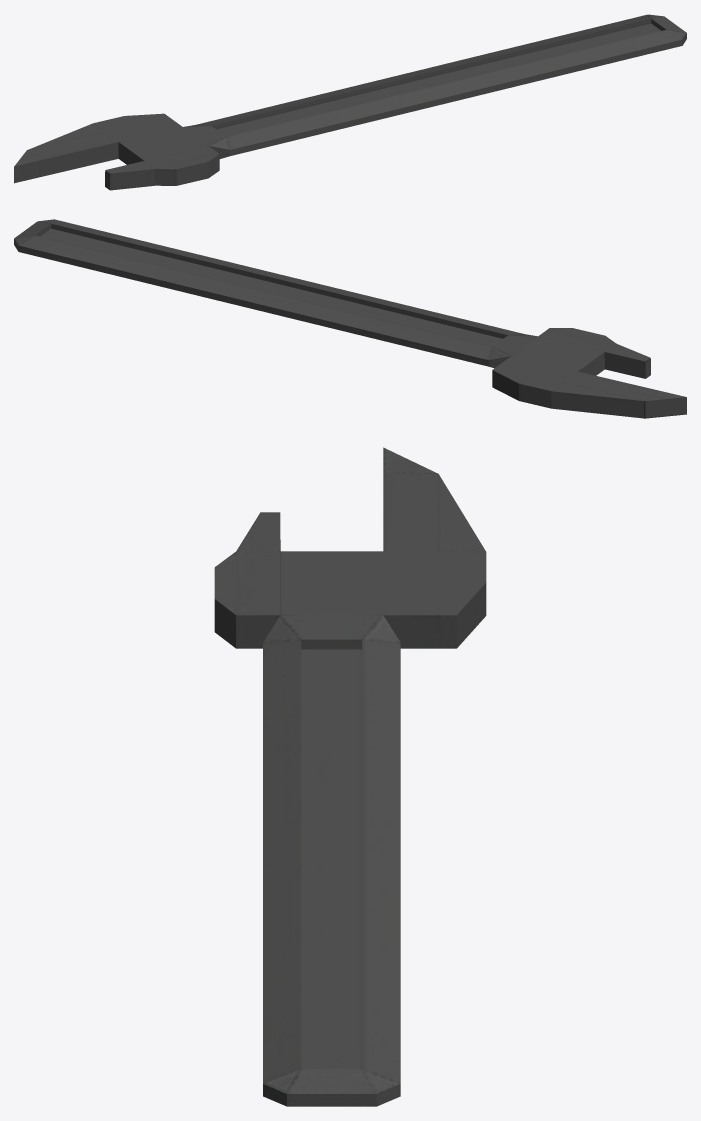
File: wrench.fbx
The picture shows the model from 3 angles, top to bottom: view 1: azimuth 30°, elevation 25°; view 2: azimuth 150°, elevation 25°; view 3: azimuth 270°, elevation 25°; orthographic projection. The views are drawn at different scales.
Visible parts, largest first — view 1: Cube; view 2: Cube; view 3: Cube.
Part boxes in pixels (<box>): Cube: <box>14,14,686,190</box>; Cube: <box>14,219,686,418</box>; Cube: <box>214,447,486,1106</box>.
Size of the model in its own units: 99.55 by 2.69 by 18.03.
